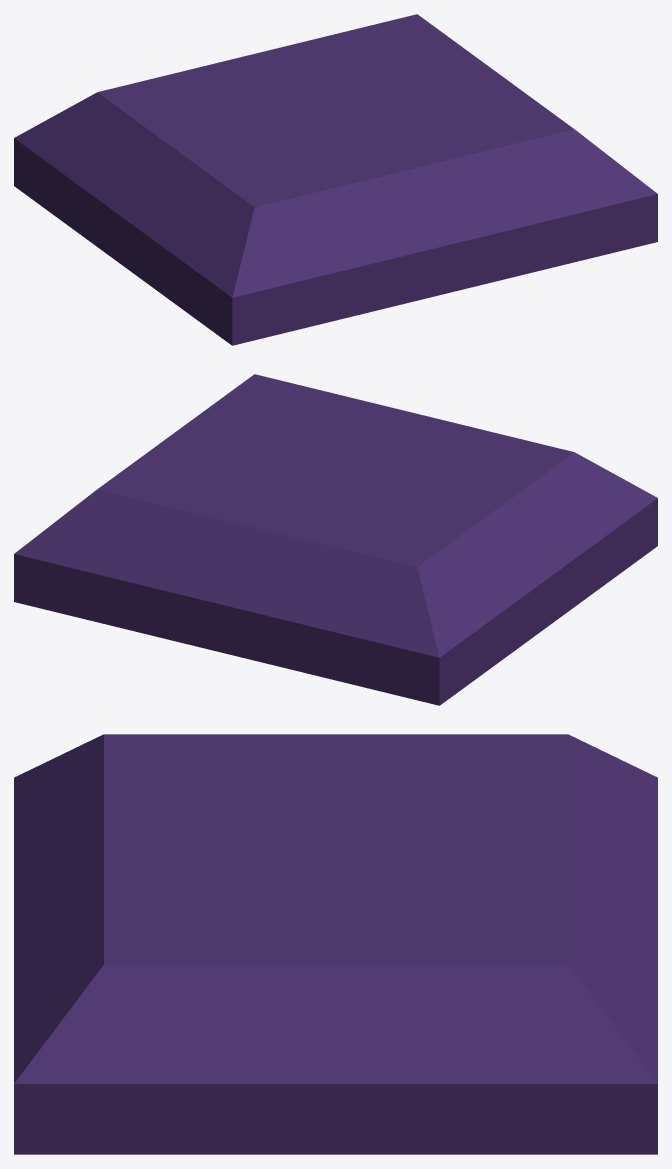
The model's file is PillMain.fbx.
3 views of the same model, one above another, from view 1: azimuth 30°, elevation 25°; view 2: azimuth 150°, elevation 25°; view 3: azimuth 270°, elevation 25° (orthographic). The views are drawn at different scales.
Parts seen in each view (by area): view 1: Cube.001; view 2: Cube.001; view 3: Cube.001.
Part boxes in pixels (x1,y1,x2,y2): Cube.001: (14,14,657,345); Cube.001: (14,374,657,705); Cube.001: (14,734,657,1154).
Bounding box in the file's own units: 191 × 44.35 × 170.
